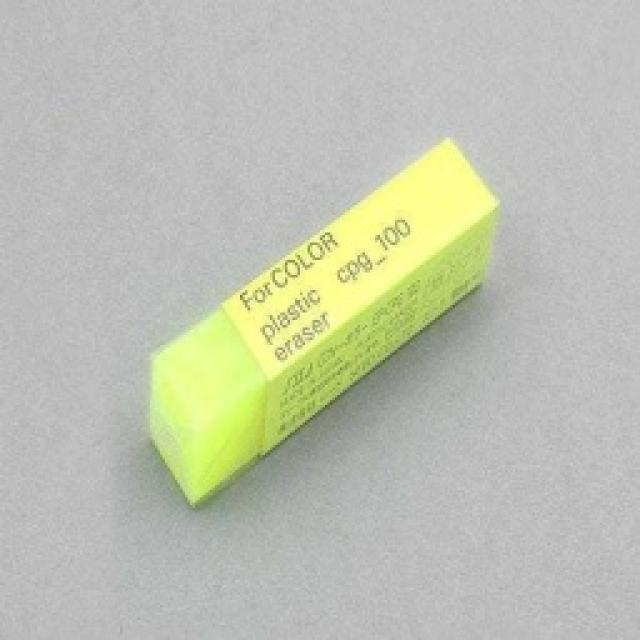Silgi: (146, 139, 502, 508)
